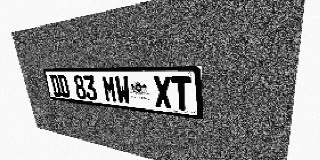3: (83, 75, 98, 101)
8: (73, 75, 87, 100)
D: (57, 75, 70, 98), (49, 75, 62, 97)
M: (102, 75, 118, 103)
T: (171, 76, 192, 111)
W: (114, 76, 131, 104)
X: (153, 76, 172, 109)
